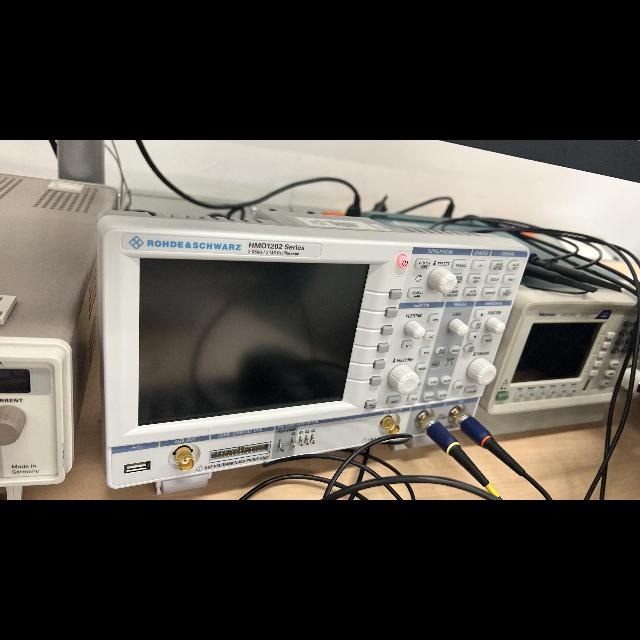Digital-Oscilloscope: (98, 209, 528, 493)
